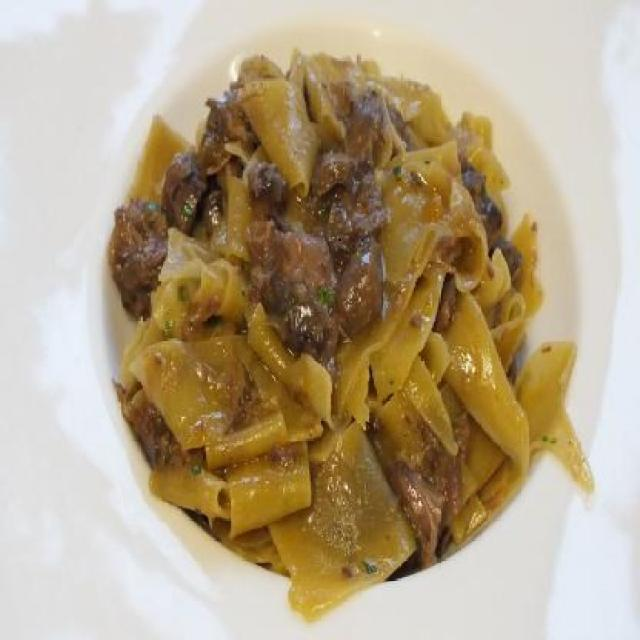Pasta al ragu: (117, 4, 600, 608)
